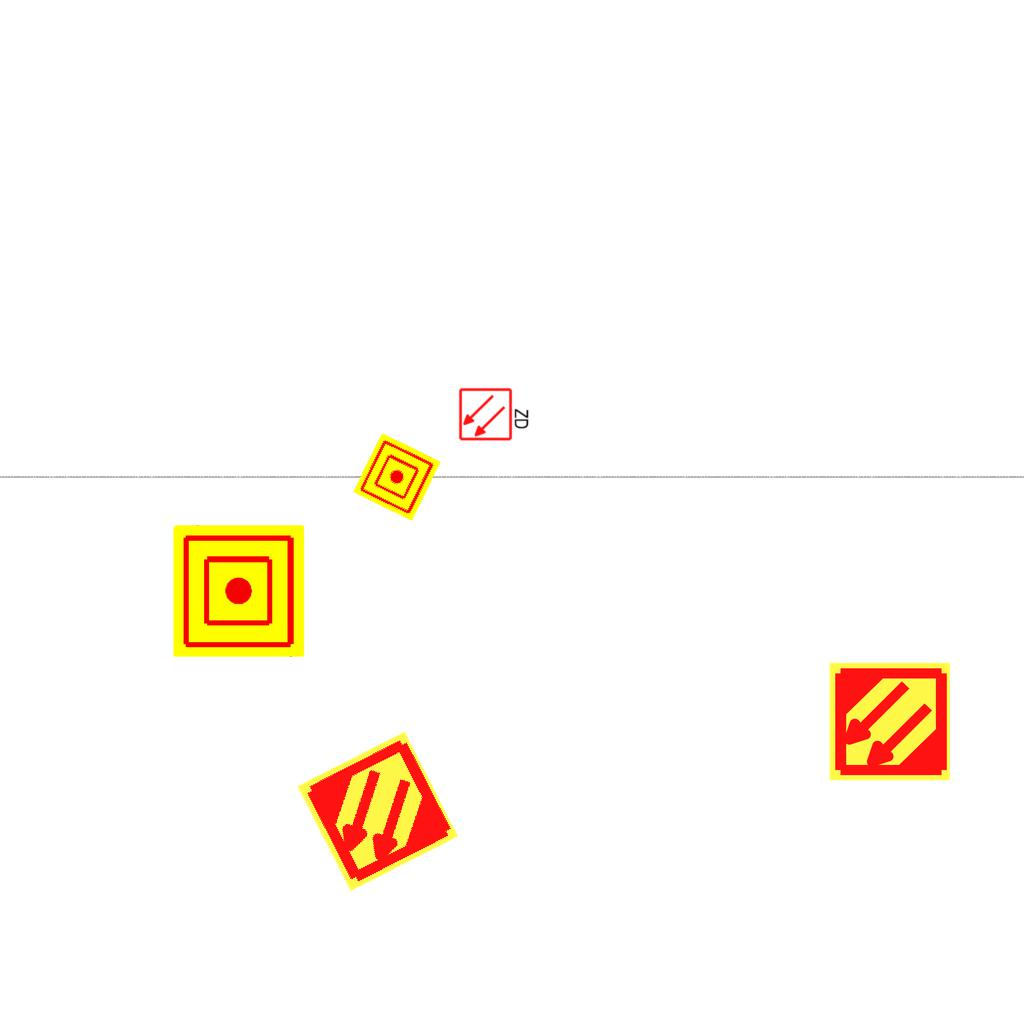ASR_Ansaugrauchmelder: (293, 727, 462, 896), (827, 659, 952, 784)
NAM-Nichtautomatischer_Melder: (173, 525, 305, 657), (352, 432, 442, 522)
ZD_Melder_in_Zwischendecke_mit_Revisionsoeffnung_mind_40_x_40_cm: (458, 385, 532, 442)
